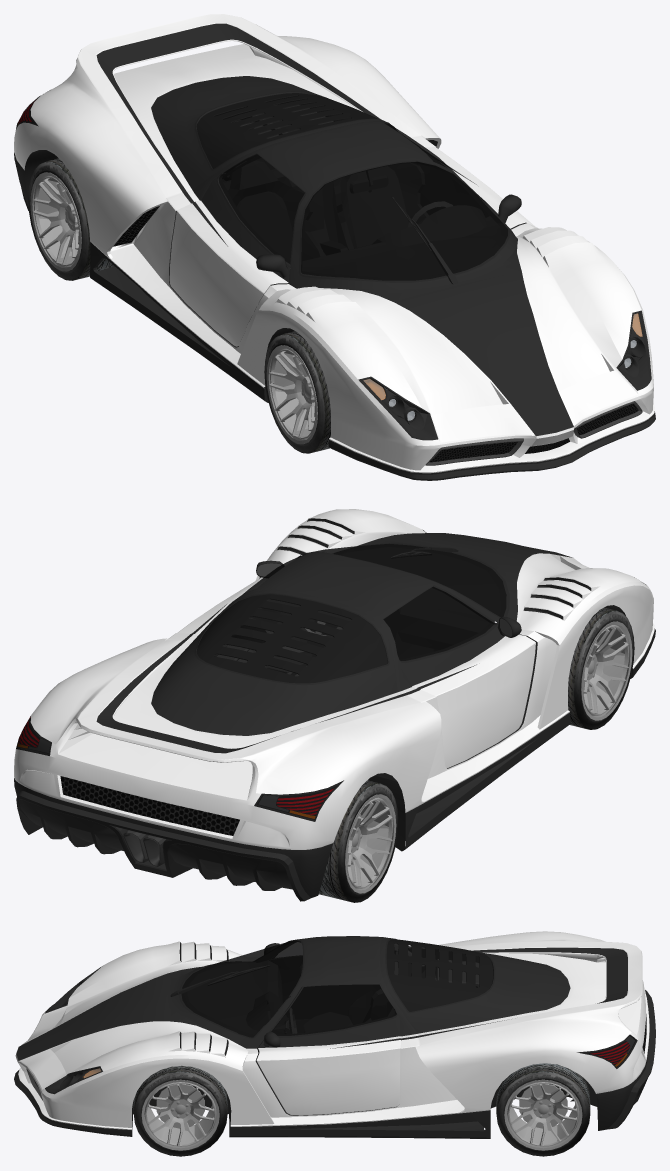
Rendered from hc_lite.glb.
3 renders of one model, top to bottom at view 1: azimuth 30°, elevation 25°; view 2: azimuth 150°, elevation 25°; view 3: azimuth 270°, elevation 25°, orthographic. The views are drawn at different scales.
Parts seen in each view (by area): view 1: BODY, W0, W1; view 2: BODY, W1, W0; view 3: BODY, W2, W3.
Boxes of the visible parts, x1,y1,x2,y2 form: BODY: (14, 14, 655, 480); W0: (264, 331, 330, 453); W1: (28, 158, 114, 280); BODY: (14, 509, 655, 901); W1: (319, 780, 398, 902); W0: (568, 607, 634, 729); BODY: (14, 931, 655, 1138); W2: (496, 1063, 590, 1156); W3: (133, 1065, 227, 1156).
Size of the model in its own units: 2.03 by 1.14 by 4.6.
10 materials, 4 textured.
